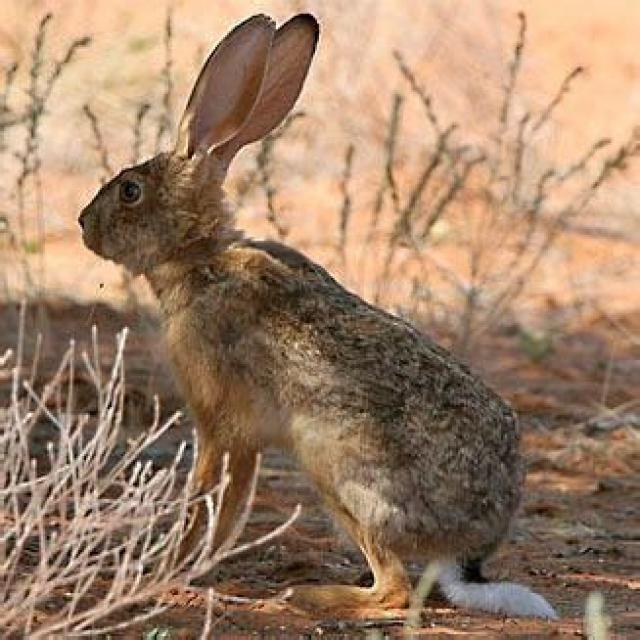phone: (71, 110, 571, 562)
